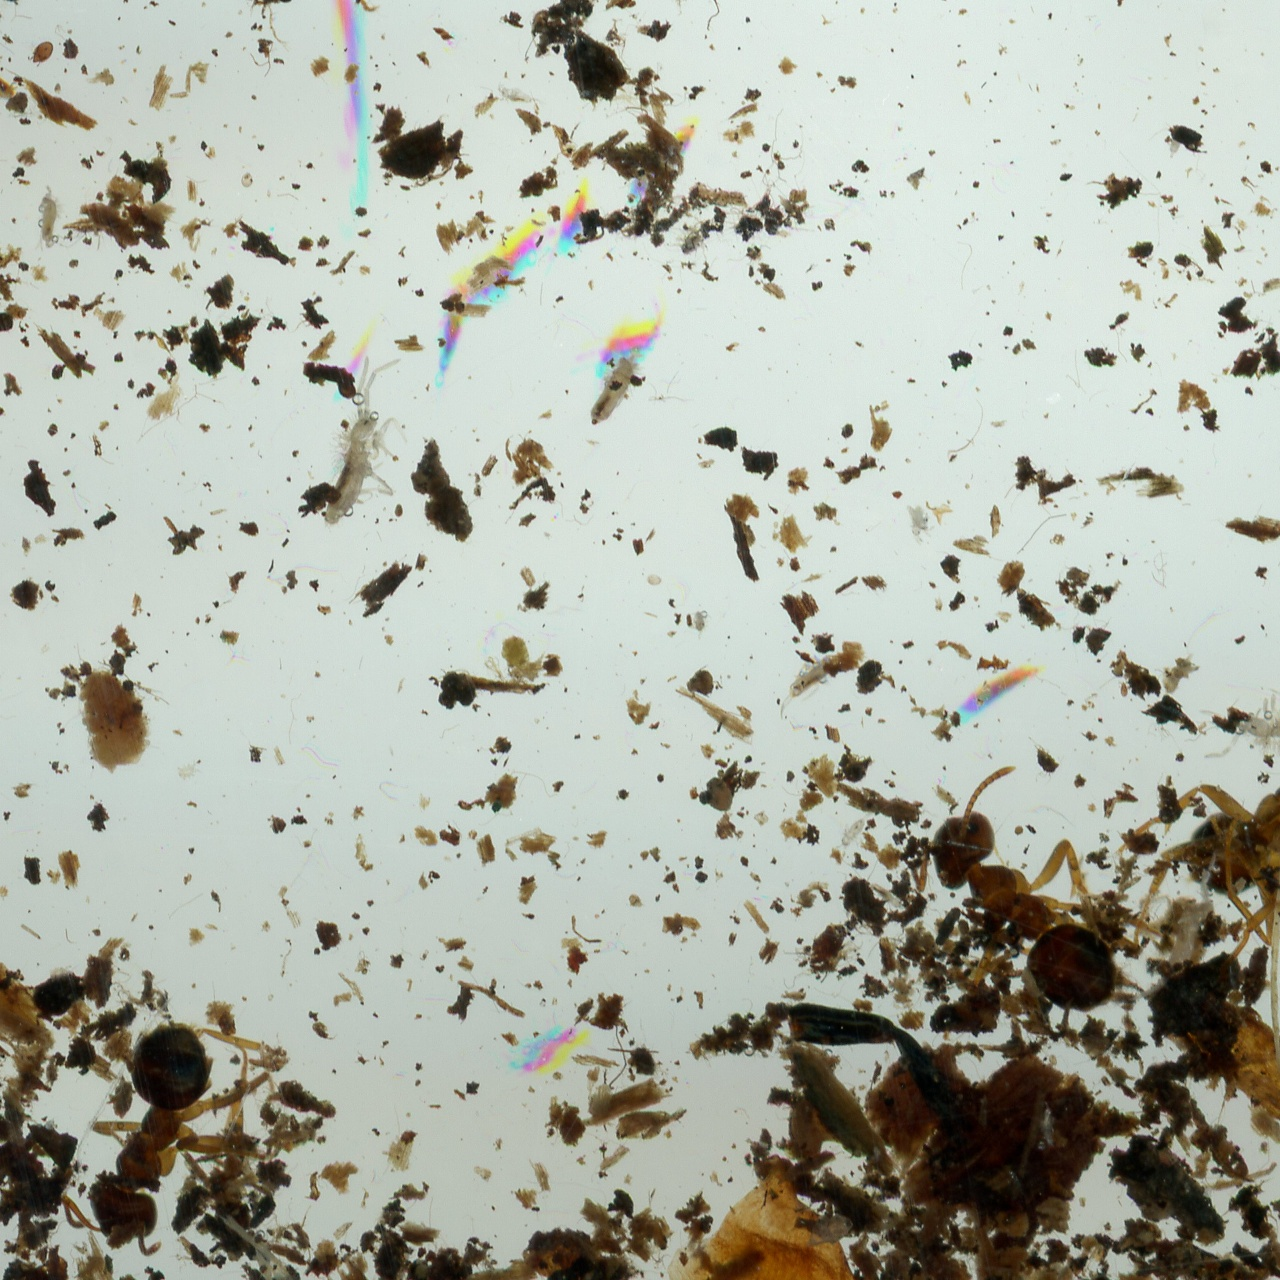arthropod: (865, 758, 1172, 1074), (52, 996, 288, 1278), (1115, 690, 1280, 979), (307, 343, 429, 544), (1128, 847, 1225, 1003), (1200, 659, 1280, 764), (573, 337, 654, 438), (761, 642, 846, 724), (827, 802, 882, 861), (0, 4, 25, 126), (35, 180, 67, 251), (491, 79, 550, 113), (900, 500, 940, 543), (1096, 649, 1129, 690), (26, 40, 58, 69), (909, 502, 928, 545), (689, 609, 711, 644), (1116, 680, 1133, 700)
